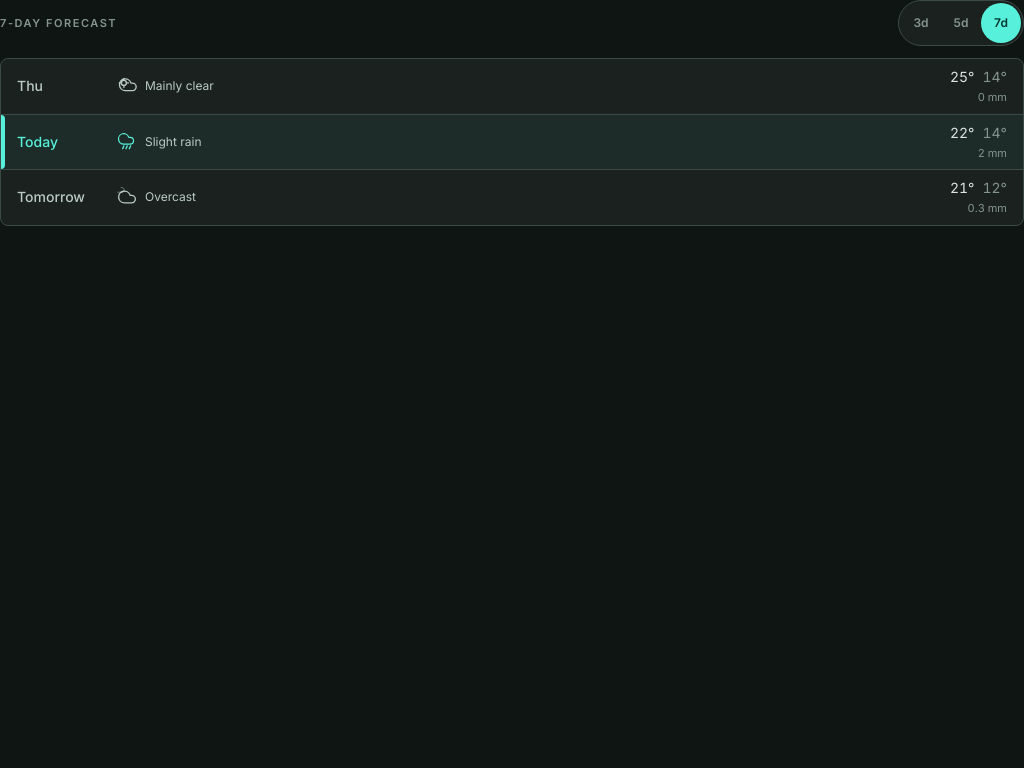
Test: ForecastGrid › opens a drill-down for the selected day and closes it
Click the button "Tomorrow Overcast 21° 12° 0.3 mm" at (51,197), box [1,170,1023,224]
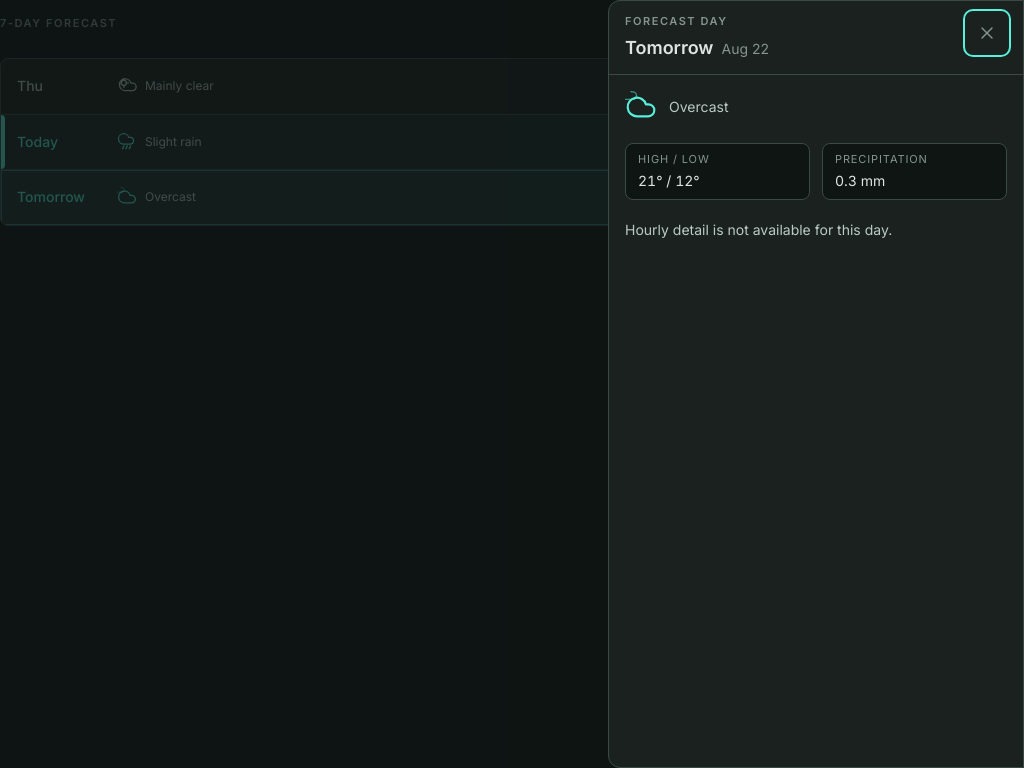
Check: the dialog is shown, box [608,0,1023,767]
Check: the text "Hourly detail is not available for this day." is shown, box [625,221,892,238]
Click the button named "Close forecast day" at (987,33), box [967,13,1007,53]
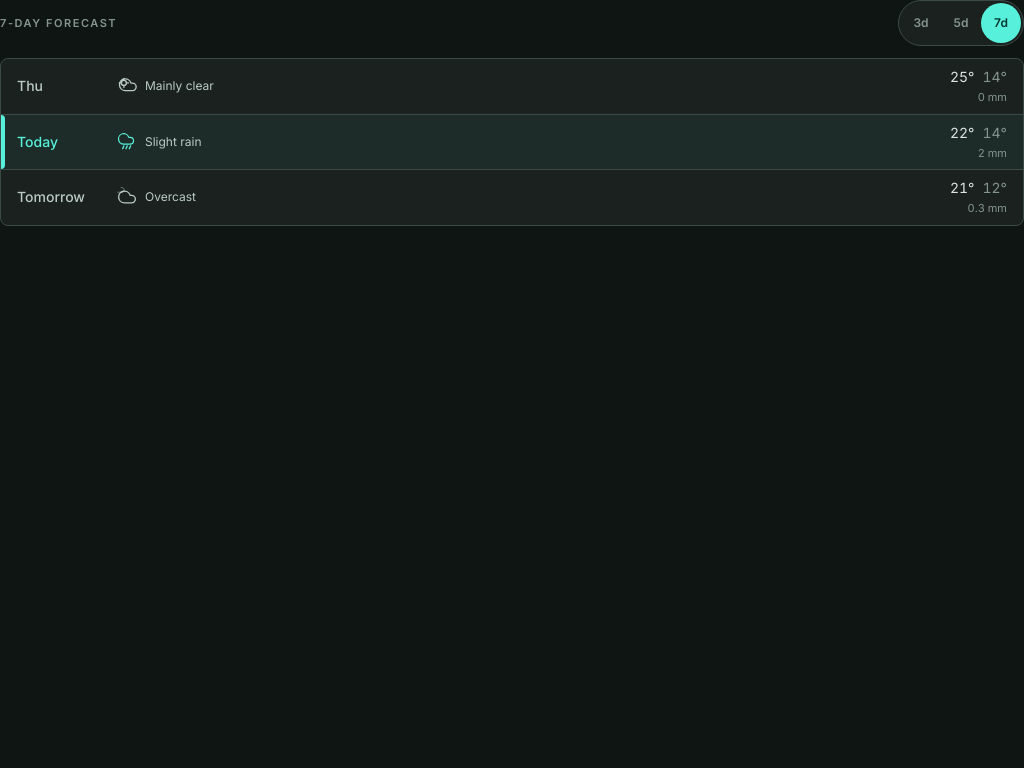
Check: the dialog is gone
